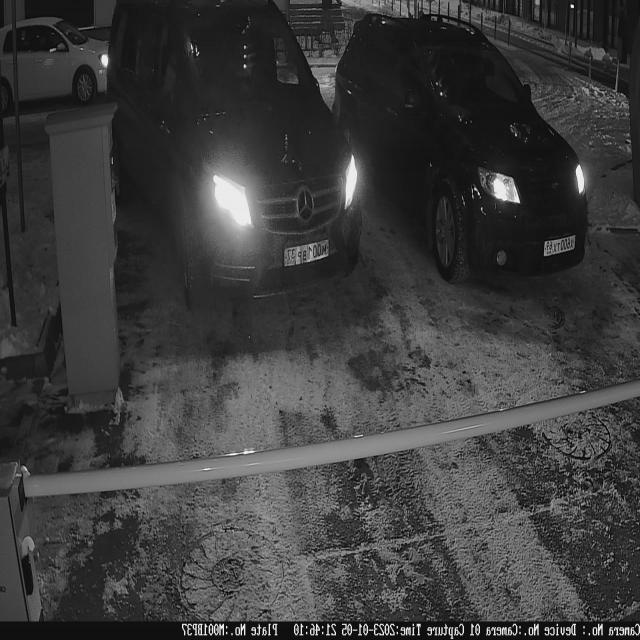car-plate-numbers: (282, 234, 333, 269)
